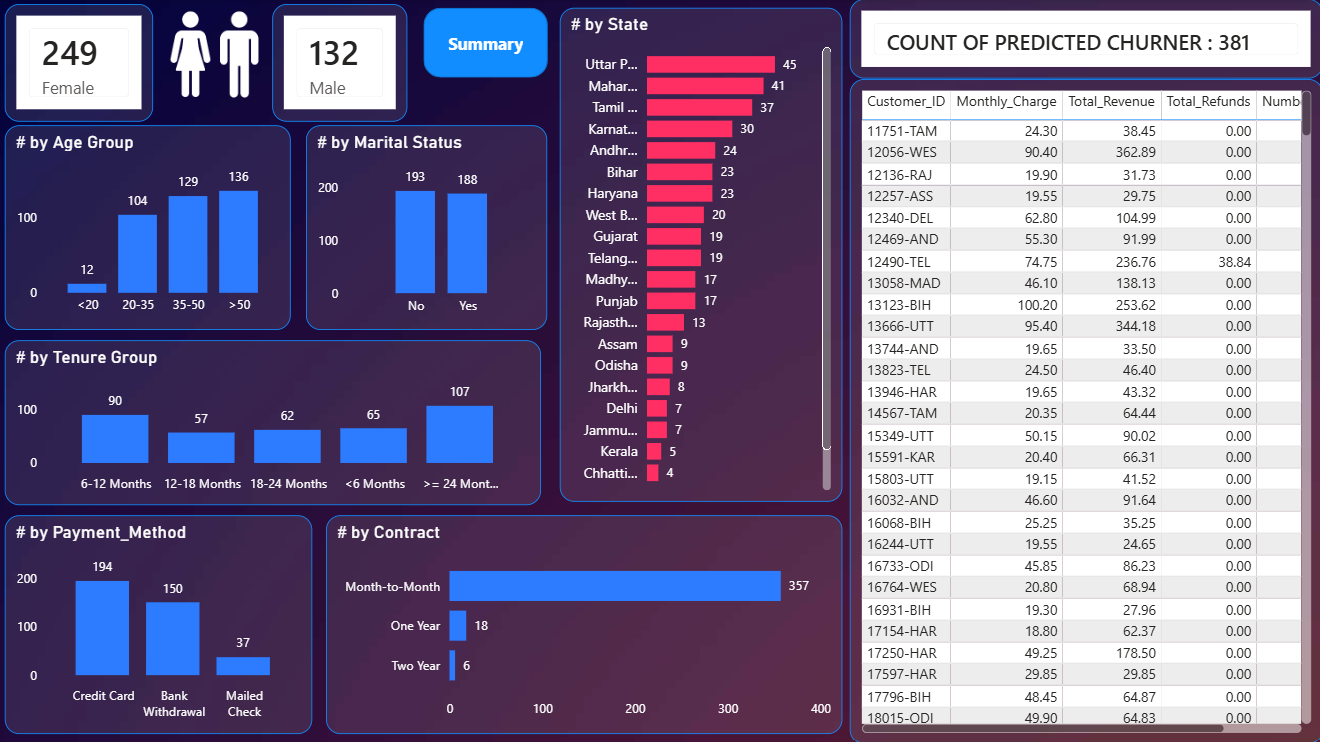

What the dashboard file says about the page in this screenshot:
{"tool":"powerbi","page":{"name":"Churn_Prediction","canvas":[1280,720],"ordinal":2},"visuals":[{"type":"tableEx","fields":{"Values":["Predictions.Customer_ID","Predictions.Monthly_Charge","Predictions.Total_Revenue","Predictions.Total_Refunds","Predictions.Number_of_Referrals"]},"box":[823.8,77.1,456.5,642.4],"z":0},{"type":"cardVisual","fields":{"Data":["tbl_Measures.Title Predicted Churner"]},"box":[823.8,0,456.5,77.1],"z":1000},{"type":"cardVisual","fields":{"Data":["tbl_Measures.Count Predicted Churner"]},"box":[8.4,4.8,143.6,113.4],"z":2000},{"type":"cardVisual","fields":{"Data":["tbl_Measures.Count Predicted Churner"]},"box":[266.6,4.8,130.3,113.4],"z":3000},{"type":"clusteredColumnChart","fields":{"Category":["mapping_AgeGrp.Age Group"],"Y":["CountNonNull(Predictions.Customer_ID)"]},"box":[8.8,121.2,276.2,197.5],"z":4000},{"type":"clusteredColumnChart","fields":{"Y":["CountNonNull(Predictions.Customer_ID)"],"Category":["Predictions.Married"]},"box":[299.2,121.9,232.8,197.9],"z":5000},{"type":"clusteredBarChart","fields":{"Category":["Predictions.State"],"Y":["CountNonNull(Predictions.Customer_ID)"]},"box":[544.1,8.4,272.7,476.5],"z":6000},{"type":"clusteredBarChart","fields":{"Category":["Predictions.Contract"],"Y":["CountNonNull(Predictions.Customer_ID)"]},"box":[318.5,498.3,498.3,211.1],"z":7000},{"type":"clusteredColumnChart","fields":{"Y":["CountNonNull(Predictions.Customer_ID)"],"Category":["Predictions.Payment_Method"]},"box":[8.4,498.3,296.8,211.1],"z":8000},{"type":"clusteredColumnChart","fields":{"Y":["CountNonNull(Predictions.Customer_ID)"],"Category":["mapping_TenureGrp.Tenure Group"]},"box":[8.4,329.4,517.6,159.3],"z":9000},{"type":"image","box":[134.5,0,151.2,105.8],"z":10000},{"type":"shape","box":[413,8.8,120,67.5],"z":11000}]}

Visuals, with their boxes in screenshot pixels (x1, y1, x2, y2), scaled from the page's 1280x720 canvas onto the 1320x742 screenshot:
tableEx - Predictions.Customer_ID x Predictions.Monthly_Charge: (850,79,1319,741)
cardVisual - tbl_Measures.Title Predicted Churner: (850,0,1319,79)
cardVisual - tbl_Measures.Count Predicted Churner: (9,5,157,122)
cardVisual - tbl_Measures.Count Predicted Churner: (275,5,409,122)
clusteredColumnChart - mapping_AgeGrp.Age Group x CountNonNull(Predictions.Customer_ID): (9,125,294,328)
clusteredColumnChart - CountNonNull(Predictions.Customer_ID) x Predictions.Married: (309,126,549,330)
clusteredBarChart - Predictions.State x CountNonNull(Predictions.Customer_ID): (561,9,842,500)
clusteredBarChart - Predictions.Contract x CountNonNull(Predictions.Customer_ID): (328,514,842,731)
clusteredColumnChart - CountNonNull(Predictions.Customer_ID) x Predictions.Payment_Method: (9,514,315,731)
clusteredColumnChart - CountNonNull(Predictions.Customer_ID) x mapping_TenureGrp.Tenure Group: (9,339,542,504)
image: (139,0,295,109)
shape: (426,9,550,79)
